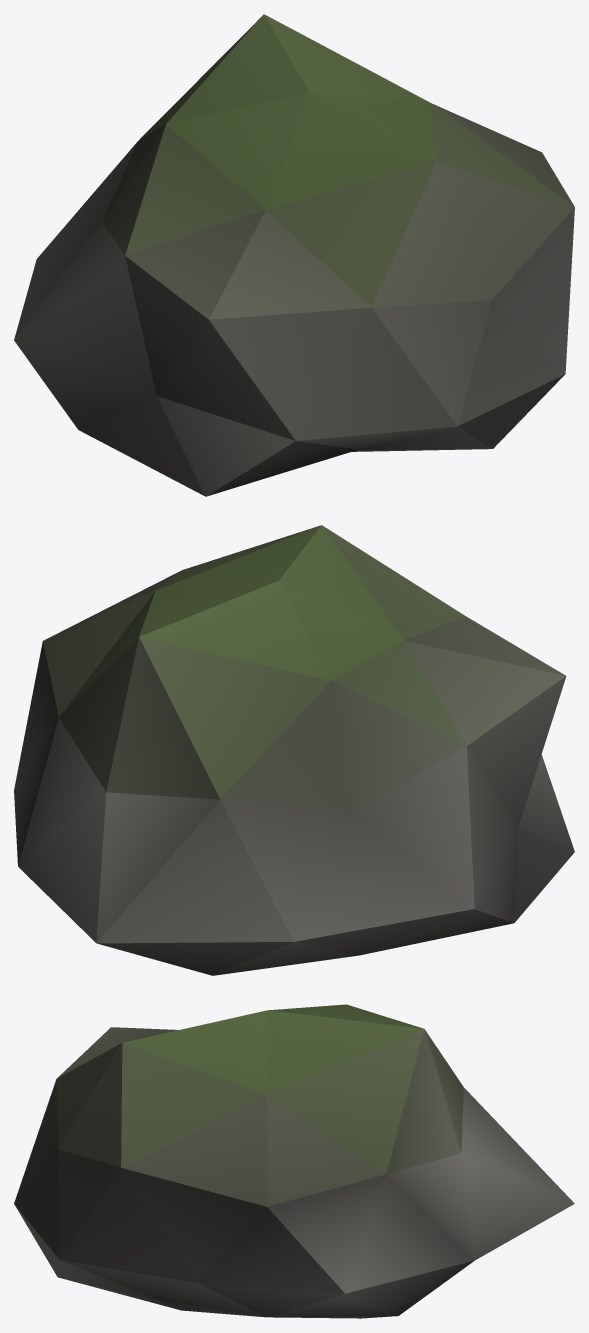
The model's file is rock2.glb.
3 views of the same model, one above another, from view 1: azimuth 30°, elevation 25°; view 2: azimuth 150°, elevation 25°; view 3: azimuth 270°, elevation 25° (orthographic). The views are drawn at different scales.
Parts seen in each view (by area): view 1: rock2; view 2: rock2; view 3: rock2.
Boxes of the visible parts, box(x1,y1,x2,y2) form: rock2: box(14, 14, 574, 496); rock2: box(14, 525, 574, 975); rock2: box(14, 1004, 574, 1318).
Size of the model in its own units: 1.81 by 1.1 by 2.15.
